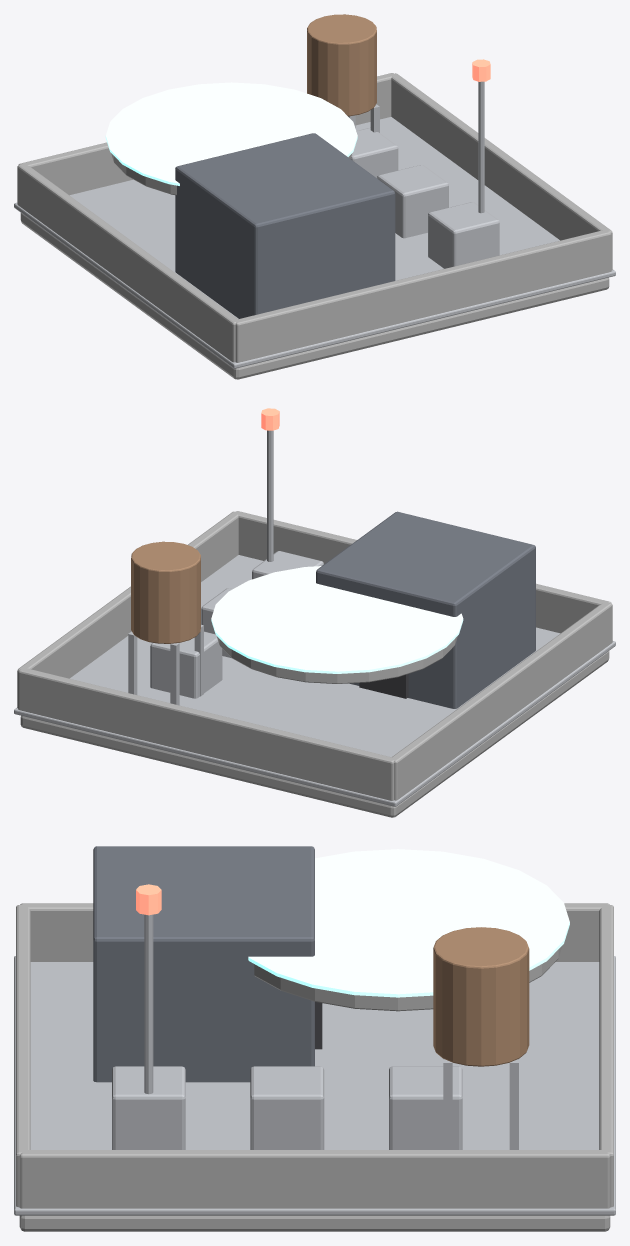
The model's file is roof_3x3_heli_office.glb.
3 renders of one model, top to bottom at view 1: azimuth 30°, elevation 25°; view 2: azimuth 150°, elevation 25°; view 3: azimuth 270°, elevation 25°, orthographic. The views are drawn at different scales.
Visible parts, largest first — view 1: ext_parapet, ext_penthouse, int_slab_edge, ext_helipad_ring, ext_ac, int_slab, ext_tank, ext_mast, ext_helipad; view 2: ext_parapet, ext_penthouse, int_slab_edge, ext_helipad_ring, int_slab, ext_tank, ext_ac, ext_helipad, ext_tank_legs, ext_mast, ext_penthouse_door; view 3: int_slab_edge, ext_parapet, ext_penthouse, ext_helipad_ring, ext_ac, ext_tank, int_slab, ext_helipad, ext_mast, ext_tank_legs, ext_beacon.
Part boxes in pixels (box(x1,y1,x2,y2)): ext_parapet: box(17, 73, 612, 362); ext_penthouse: box(175, 133, 395, 318); int_slab_edge: box(14, 117, 615, 368); ext_helipad_ring: box(105, 82, 357, 185); ext_ac: box(350, 127, 499, 268); int_slab: box(20, 213, 609, 379); ext_tank: box(307, 14, 376, 116); ext_mast: box(478, 81, 484, 213); ext_helipad: box(111, 153, 352, 195); ext_parapet: box(17, 511, 612, 800); ext_penthouse: box(316, 511, 535, 708); int_slab_edge: box(14, 555, 615, 806); ext_helipad_ring: box(211, 566, 463, 673); int_slab: box(20, 651, 609, 817); ext_tank: box(131, 541, 200, 643); ext_ac: box(150, 551, 323, 698); ext_helipad: box(217, 636, 457, 683); ext_tank_legs: box(128, 624, 203, 705); ext_mast: box(267, 430, 273, 561); ext_penthouse_door: box(359, 674, 408, 698); int_slab_edge: box(14, 956, 615, 1215); ext_parapet: box(16, 903, 613, 1208); ext_penthouse: box(93, 846, 314, 1082); ext_helipad_ring: box(248, 849, 569, 997); ext_ac: box(112, 1066, 462, 1149); ext_tank: box(433, 927, 529, 1066); int_slab: box(19, 1215, 610, 1231); ext_helipad: box(254, 945, 562, 1011); ext_mast: box(144, 914, 153, 1094); ext_tank_legs: box(443, 1059, 518, 1149); ext_beacon: box(136, 884, 161, 915).
Bounding box in the file's own units: 3.26 × 1.73 × 3.26.
